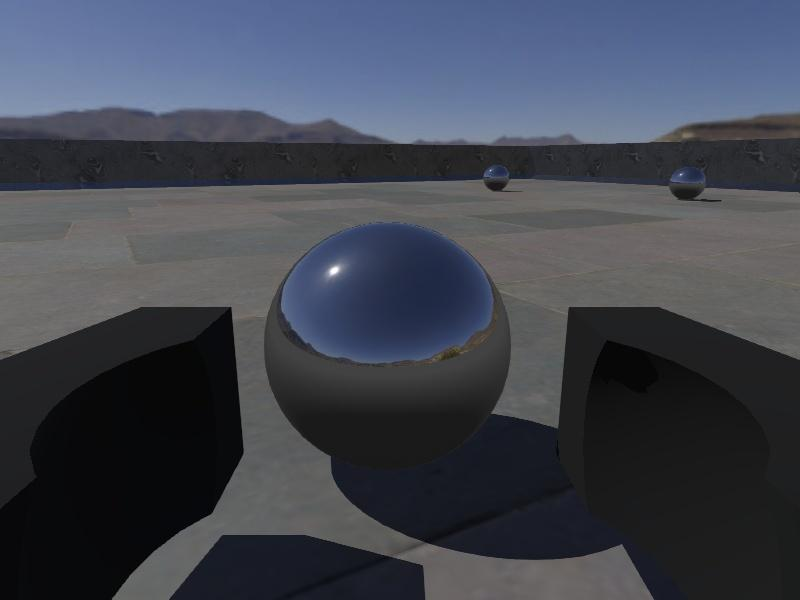steel ball: (263, 219, 513, 477), (668, 165, 707, 201), (483, 162, 511, 192)
